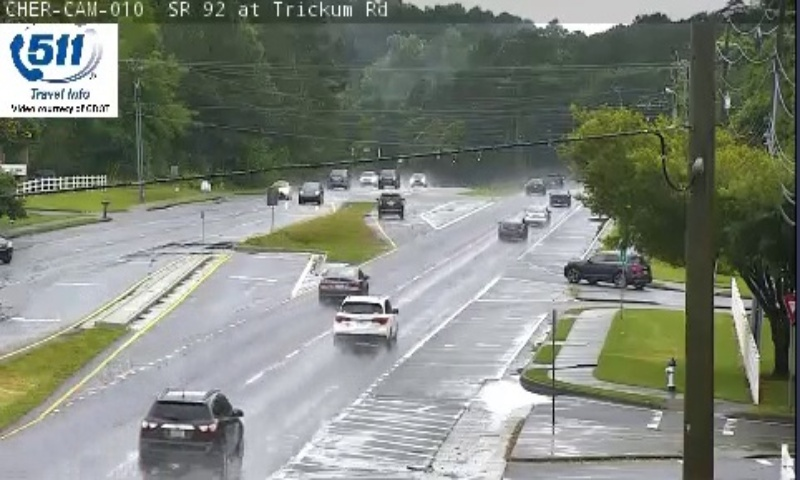car: (139, 389, 245, 470), (333, 295, 398, 346), (317, 267, 366, 299), (499, 216, 529, 241), (378, 192, 405, 217), (524, 203, 551, 225)
